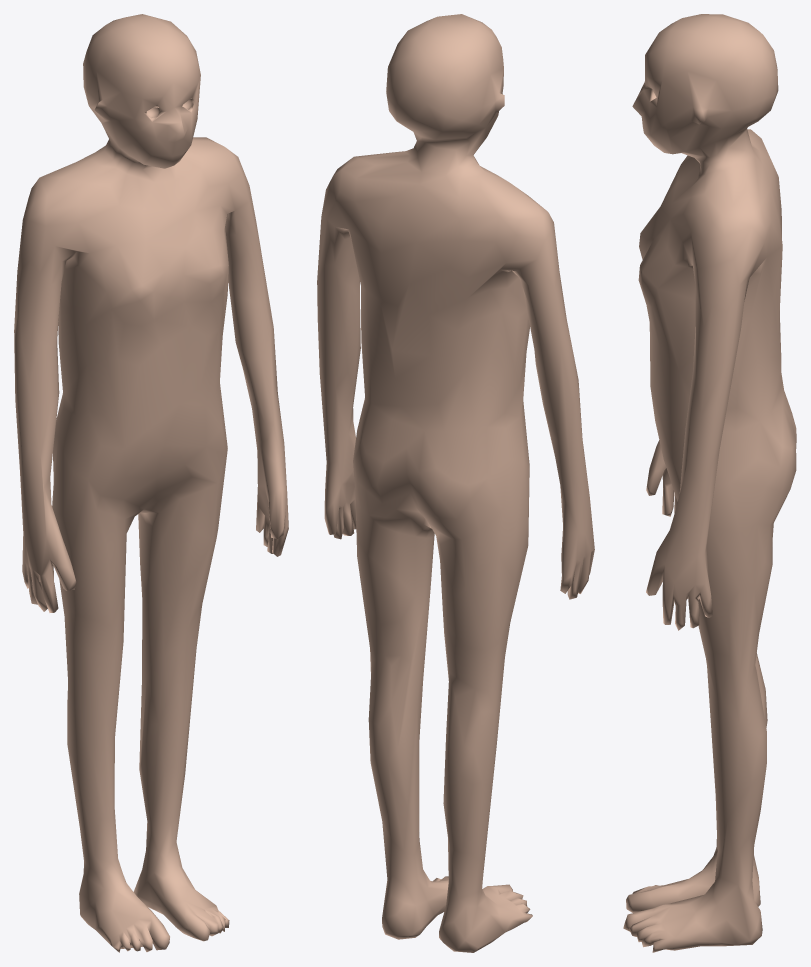
The model's file is pediatric_child_10y_female.surface.LOD3.glb.
3 views of the same model, side by side, from view 1: azimuth 30°, elevation 25°; view 2: azimuth 150°, elevation 25°; view 3: azimuth 270°, elevation 25° (orthographic).
Parts seen in each view (by area): view 1: PEDIATRIC.CHILD_10Y.FEMALE.SURFACE.SKIN; view 2: PEDIATRIC.CHILD_10Y.FEMALE.SURFACE.SKIN; view 3: PEDIATRIC.CHILD_10Y.FEMALE.SURFACE.SKIN.
Boxes of the visible parts, box(x1,y1,x2,y2) form: PEDIATRIC.CHILD_10Y.FEMALE.SURFACE.SKIN: box(14, 14, 288, 952); PEDIATRIC.CHILD_10Y.FEMALE.SURFACE.SKIN: box(317, 14, 594, 952); PEDIATRIC.CHILD_10Y.FEMALE.SURFACE.SKIN: box(623, 14, 796, 952).
Size of the model in its own units: 0.4127 by 1.38 by 0.2401.
